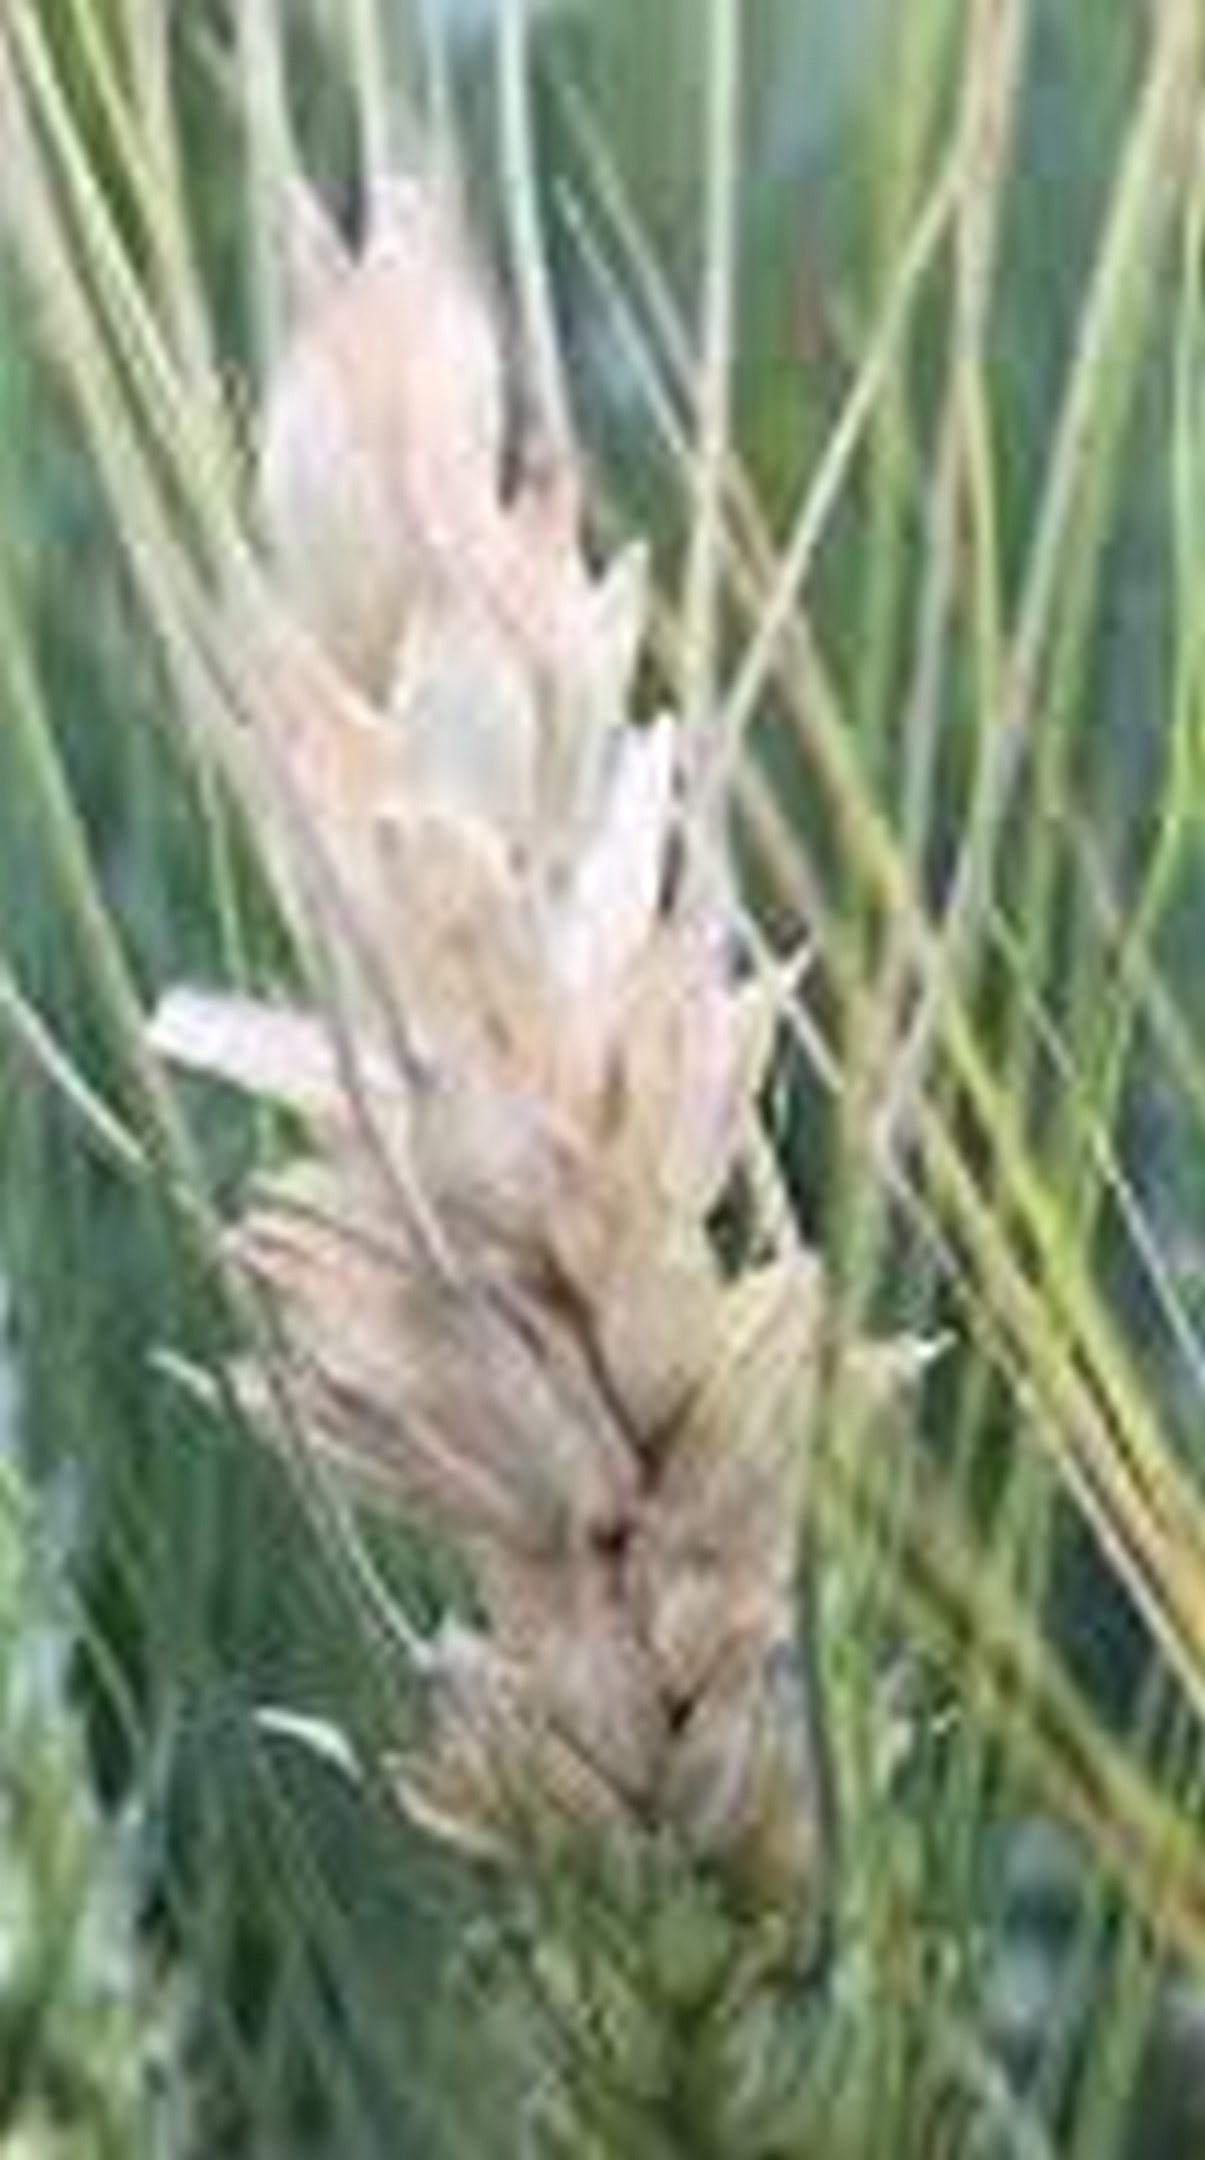Wheat scab: (160, 220, 933, 2142)
